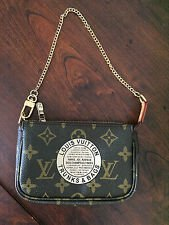LOUIS-VUITTON: (96, 158, 120, 182)
